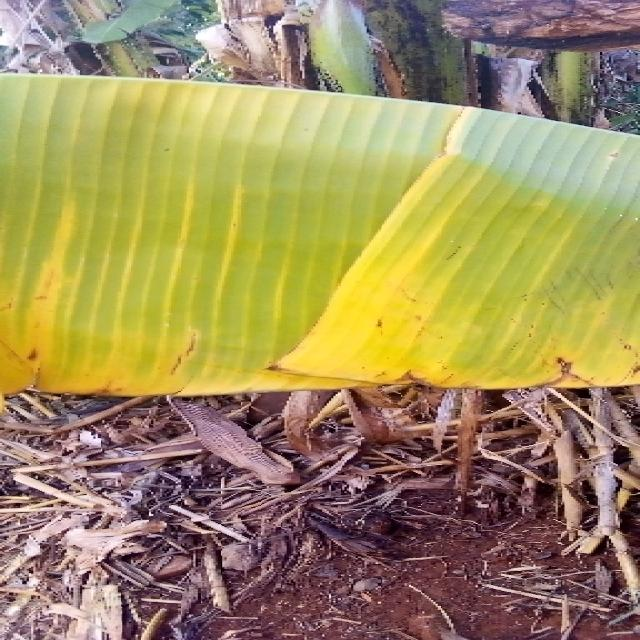Cordana: (0, 63, 634, 409)
